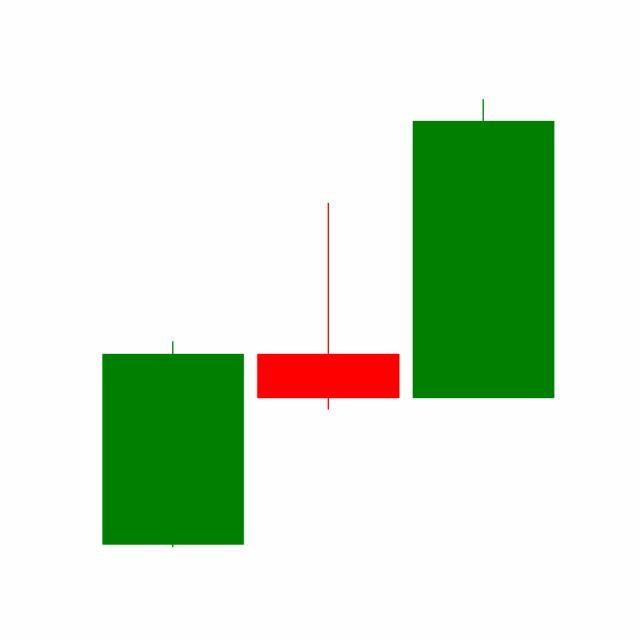Marubozu: (406, 97, 562, 403)
